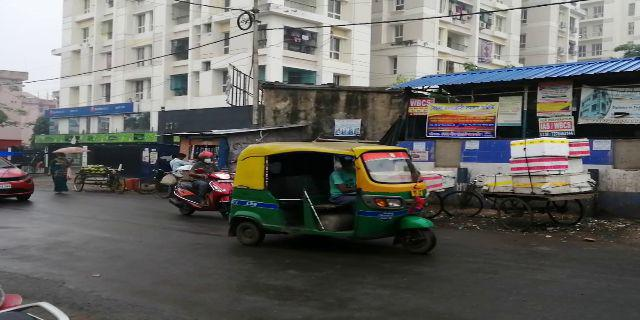Autorickshaw: (234, 143, 437, 259)
Motorbike: (172, 147, 231, 217)
